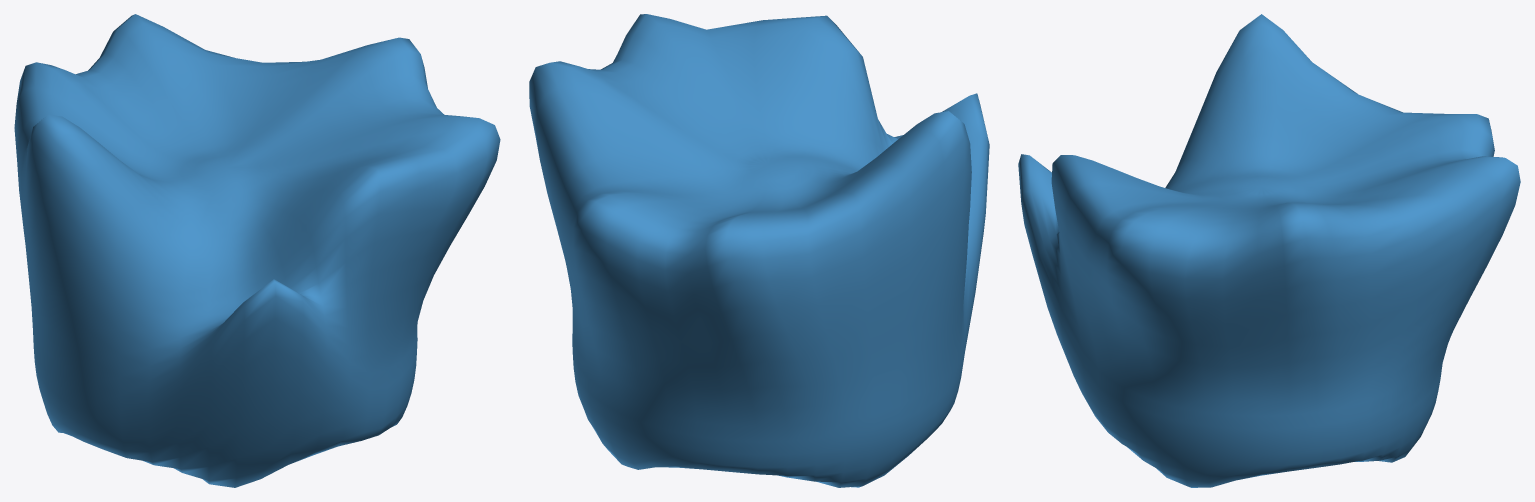
File: AGRock1.fbx
3 views of the same model, side by side, from view 1: azimuth 30°, elevation 25°; view 2: azimuth 150°, elevation 25°; view 3: azimuth 270°, elevation 25° (orthographic). The views are drawn at different scales.
Visible parts, largest first — view 1: pSphere9; view 2: pSphere9; view 3: pSphere9.
Boxes of the visible parts, x1,y1,x2,y2 form: pSphere9: (14,14,500,487); pSphere9: (529,14,989,487); pSphere9: (1018,14,1520,487).
Bounding box in the file's own units: 1.19 × 1 × 1.37.
